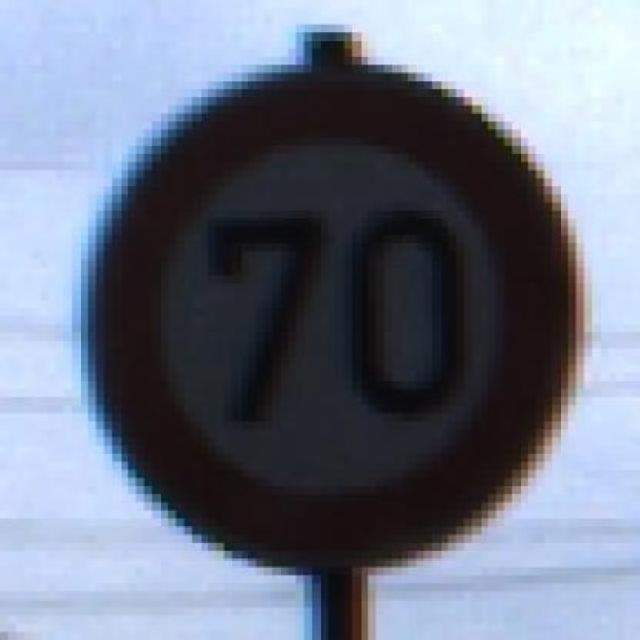forb_speed_over_70: (99, 73, 573, 564)
